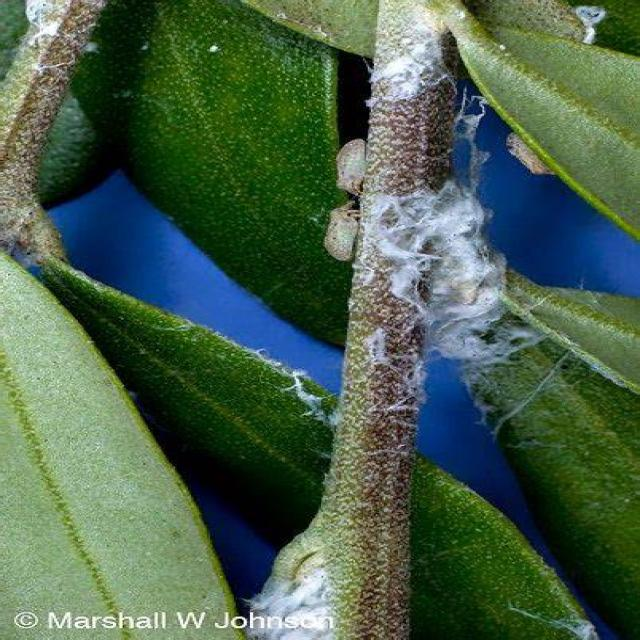Psyllid: (368, 0, 541, 390), (0, 0, 107, 266), (248, 528, 342, 639), (508, 133, 559, 176), (325, 198, 358, 261), (336, 139, 368, 197)
